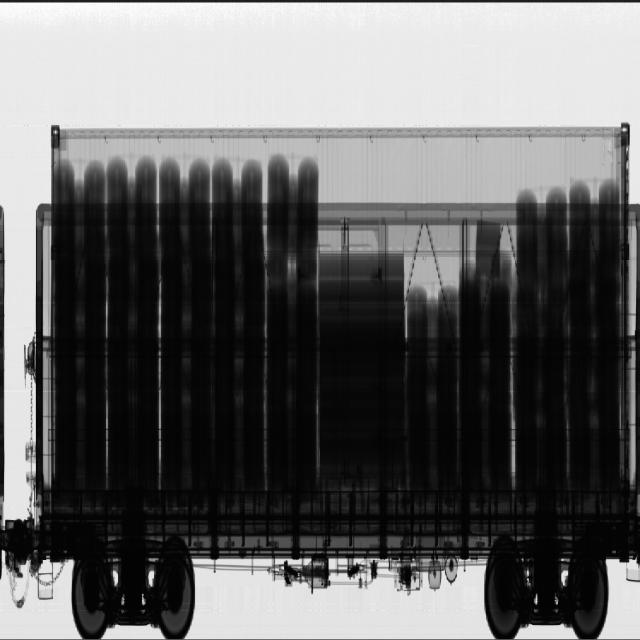fabrics: (58, 150, 628, 499)
